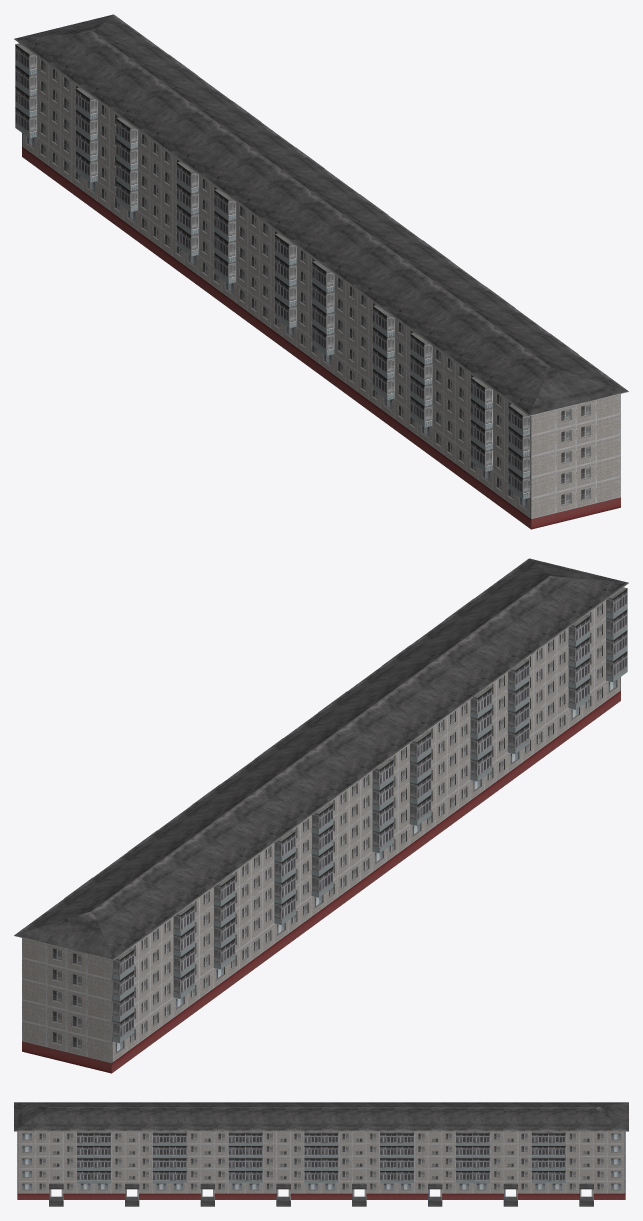
The model's file is Etajka.glb.
The picture shows the model from 3 angles, top to bottom: view 1: azimuth 30°, elevation 25°; view 2: azimuth 150°, elevation 25°; view 3: azimuth 270°, elevation 25°; orthographic projection. The views are drawn at different scales.
Visible parts, largest first — view 1: Long5Hrush; view 2: Long5Hrush; view 3: Long5Hrush.
Boxes of the visible parts, left/top/right/bottom form: Long5Hrush: left=14, top=14, right=628, bottom=529; Long5Hrush: left=14, top=558, right=628, bottom=1073; Long5Hrush: left=14, top=1102, right=628, bottom=1206.
Bounding box in the file's own units: 21.92 × 23.1 × 162.
6 materials, 6 textured.
